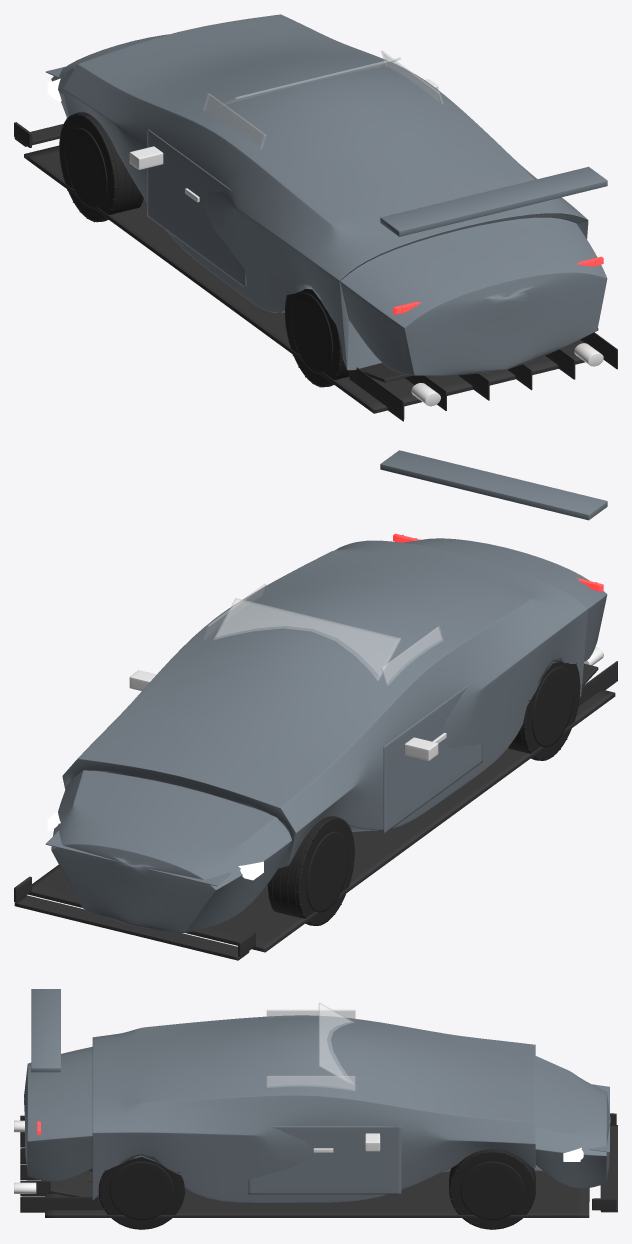
File: vehicle.opt.glb
The picture shows the model from 3 angles, top to bottom: view 1: azimuth 30°, elevation 25°; view 2: azimuth 150°, elevation 25°; view 3: azimuth 270°, elevation 25°; orthographic projection. The views are drawn at different scales.
Visible parts, largest first — view 1: BODY_MainShell, UNDERBODY_FlatFloor, BODY_Door_FL, WHEEL_FL_Tire, AERO_G70_RoofSpoiler, WHEEL_RL_Tire, GLASS_Greenhouse, JEWELRY_G70_DualExhaust, JEWELRY_Hardware, AERO_FrontSplitter; view 2: BODY_MainShell, UNDERBODY_FlatFloor, WHEEL_FL_Tire, BODY_Door_FL, GLASS_Greenhouse, AERO_G70_RoofSpoiler, WHEEL_RL_Tire, AERO_FrontSplitter, JEWELRY_Hardware, BODY_Hood; view 3: BODY_MainShell, UNDERBODY_FlatFloor, BODY_Door_FR, WHEEL_FR_Tire, WHEEL_RR_Tire, GLASS_Greenhouse, AERO_G70_RoofSpoiler, AERO_FrontSplitter, JEWELRY_G70_DualExhaust, JEWELRY_Hardware.
Part boxes in pixels (x1=…): BODY_MainShell: x1=51, y1=14, x2=607, y2=375; UNDERBODY_FlatFloor: x1=24, y1=145, x2=617, y2=421; BODY_Door_FL: x1=147, y1=128, x2=246, y2=288; WHEEL_FL_Tire: x1=58, y1=112, x2=143, y2=222; AERO_G70_RoofSpoiler: x1=380, y1=166, x2=607, y2=236; WHEEL_RL_Tire: x1=284, y1=289, x2=349, y2=387; GLASS_Greenhouse: x1=202, y1=50, x2=443, y2=148; JEWELRY_G70_DualExhaust: x1=411, y1=343, x2=603, y2=406; JEWELRY_Hardware: x1=129, y1=79, x2=438, y2=202; AERO_FrontSplitter: x1=14, y1=122, x2=63, y2=147; BODY_MainShell: x1=51, y1=538, x2=607, y2=932; UNDERBODY_FlatFloor: x1=28, y1=661, x2=617, y2=952; WHEEL_FL_Tire: x1=267, y1=816, x2=354, y2=925; BODY_Door_FL: x1=383, y1=684, x2=482, y2=833; GLASS_Greenhouse: x1=203, y1=584, x2=443, y2=685; AERO_G70_RoofSpoiler: x1=380, y1=450, x2=607, y2=520; WHEEL_RL_Tire: x1=508, y1=661, x2=580, y2=760; AERO_FrontSplitter: x1=14, y1=876, x2=255, y2=960; JEWELRY_Hardware: x1=129, y1=670, x2=446, y2=760; BODY_Hood: x1=45, y1=830, x2=230, y2=886; BODY_MainShell: x1=24, y1=1015, x2=610, y2=1202; UNDERBODY_FlatFloor: x1=20, y1=1115, x2=589, y2=1217; BODY_Door_FR: x1=248, y1=1126, x2=401, y2=1194; WHEEL_FR_Tire: x1=449, y1=1149, x2=535, y2=1229; WHEEL_RR_Tire: x1=98, y1=1156, x2=185, y2=1229; GLASS_Greenhouse: x1=266, y1=1003, x2=355, y2=1090; AERO_G70_RoofSpoiler: x1=31, y1=989, x2=60, y2=1072; AERO_FrontSplitter: x1=592, y1=1113, x2=617, y2=1212; JEWELRY_G70_DualExhaust: x1=14, y1=1120, x2=36, y2=1193; JEWELRY_Hardware: x1=313, y1=1133, x2=380, y2=1152.
Size of what is drawn, in the model's own units: 2.18 by 1.39 by 4.89.
